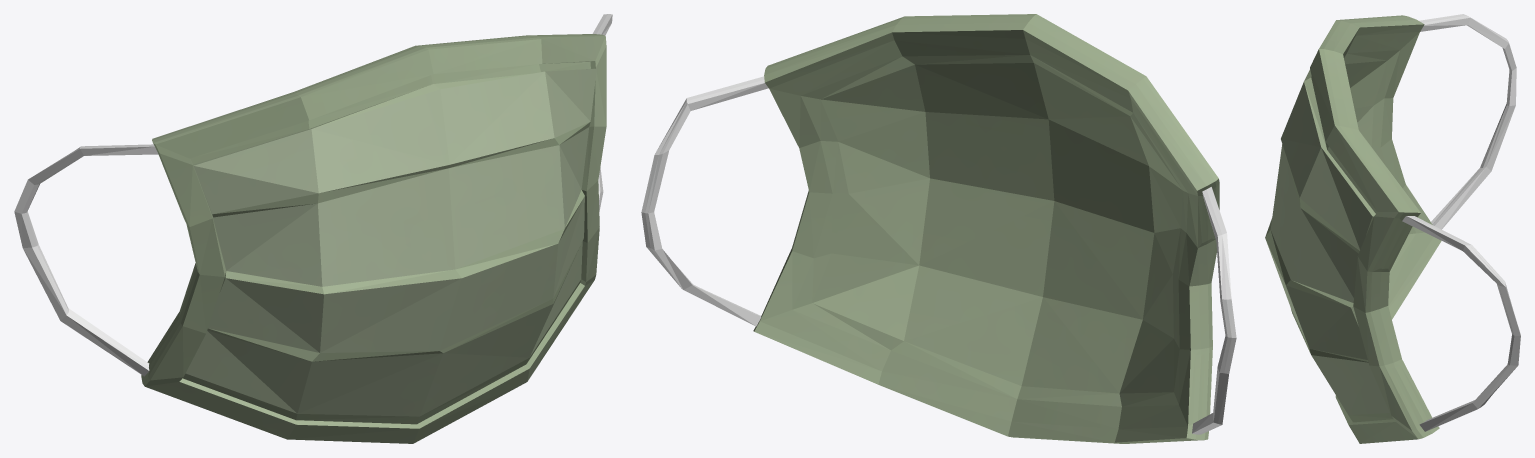
File: face_mask_1.obj
The picture shows the model from 3 angles, left to right: view 1: azimuth 30°, elevation 25°; view 2: azimuth 150°, elevation 25°; view 3: azimuth 270°, elevation 25°; orthographic projection. The views are drawn at different scales.
Visible parts, largest first — view 1: face_mask_1_Material; view 2: face_mask_1_Material; view 3: face_mask_1_Material.
Part boxes in pixels (bbox=[...]): face_mask_1_Material: bbox=[14, 14, 612, 443]; face_mask_1_Material: bbox=[641, 14, 1236, 443]; face_mask_1_Material: bbox=[1265, 14, 1520, 443].
Size of the model in its own units: 0.1822 by 0.1208 by 0.0765.
